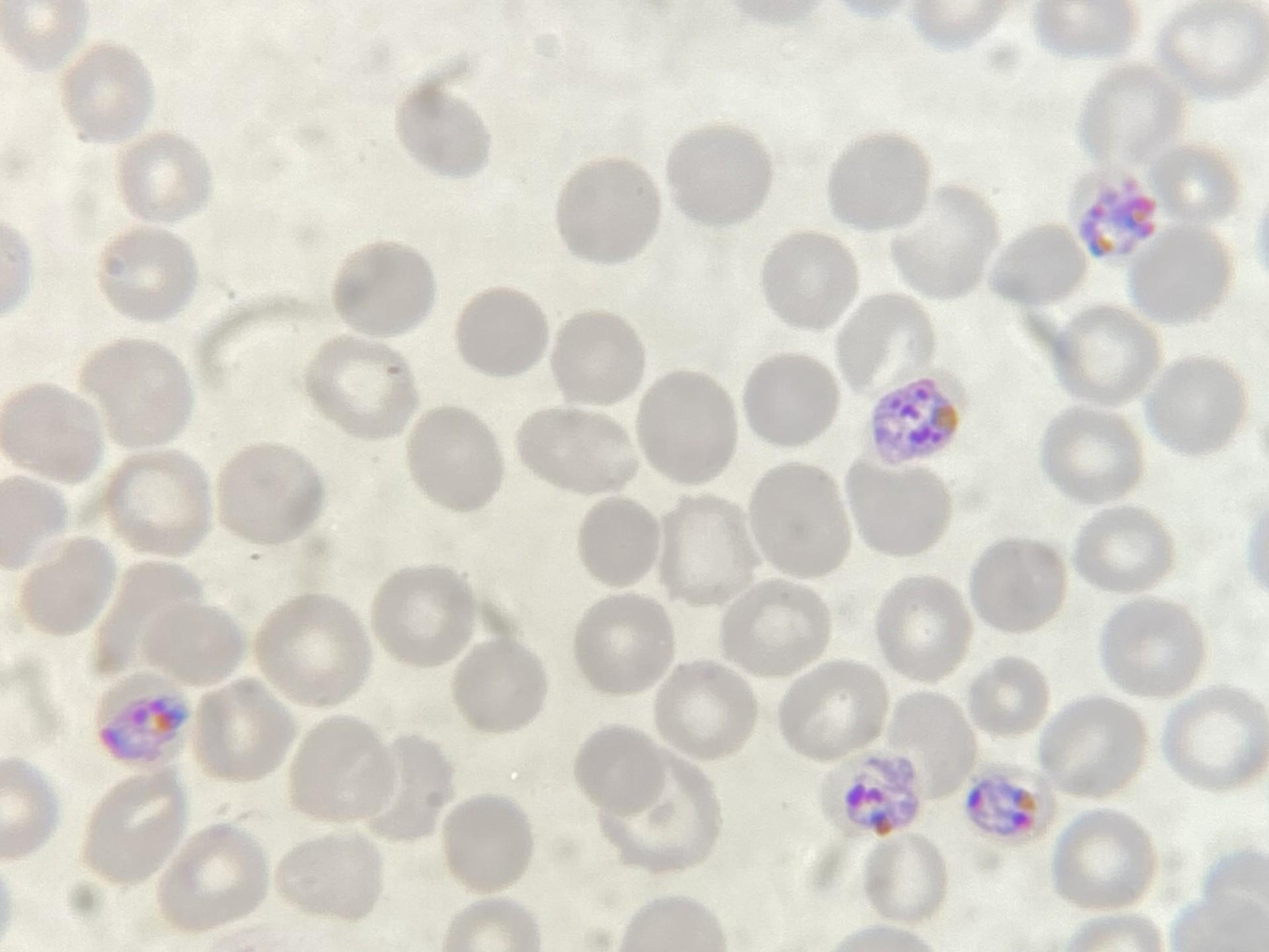Infected: (345, 109, 448, 203), (1078, 184, 1176, 282), (309, 487, 395, 573), (214, 106, 304, 186), (112, 692, 191, 772)
Uninfected: (548, 80, 674, 206), (1073, 500, 1189, 612), (1076, 65, 1186, 182), (896, 245, 1011, 356), (416, 371, 525, 487), (999, 19, 1110, 129), (867, 127, 982, 233), (847, 511, 962, 616), (1022, 262, 1137, 366), (272, 652, 377, 764), (1054, 393, 1163, 498), (529, 468, 633, 578), (121, 152, 231, 256), (942, 405, 1053, 508), (34, 624, 141, 729), (314, 393, 422, 496), (436, 271, 546, 372), (2, 159, 108, 263), (789, 283, 897, 385), (1163, 462, 1267, 567), (508, 346, 609, 454), (941, 567, 1067, 653), (63, 251, 169, 353), (22, 493, 126, 596), (294, 268, 396, 373), (85, 786, 190, 888), (107, 545, 213, 646), (632, 455, 748, 546), (608, 682, 708, 787), (379, 190, 488, 286), (763, 438, 864, 541), (972, 171, 1075, 272), (337, 722, 442, 820), (112, 42, 218, 139), (291, 153, 388, 258), (3, 855, 111, 949), (124, 444, 227, 542), (510, 192, 615, 288), (1110, 807, 1209, 908), (409, 621, 510, 720), (592, 257, 693, 356), (330, 560, 432, 658), (777, 774, 872, 879), (886, 28, 994, 120), (1152, 314, 1249, 416), (498, 730, 598, 828), (831, 615, 935, 709), (428, 504, 527, 601), (201, 319, 301, 415), (621, 546, 721, 641), (813, 111, 902, 214), (734, 58, 829, 154), (722, 218, 817, 314), (2, 1, 95, 99), (94, 356, 195, 443), (605, 361, 697, 456), (718, 573, 814, 664), (180, 645, 278, 733), (1080, 622, 1166, 721), (28, 725, 122, 807), (1057, 728, 1143, 814), (321, 28, 405, 113), (217, 214, 303, 294), (1199, 377, 1269, 475), (1179, 881, 1269, 951), (130, 891, 229, 952), (543, 1, 648, 55)
